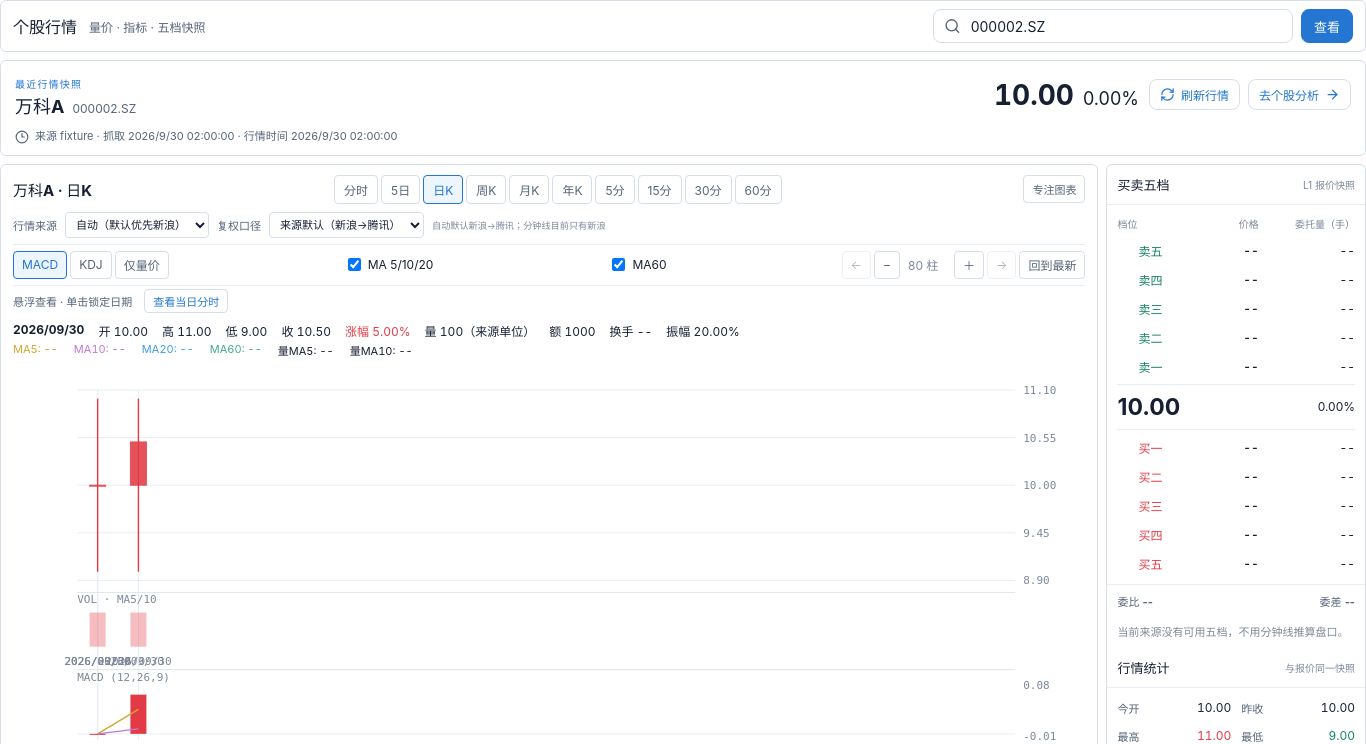
Test case: stock detail refresh preserves the rendered chart › does not offer retired EastMoney prices and states explicit Tencent default correctly
Select "腾讯 · 明确来源口径" in the dropdown named "K线来源". click: [137, 224]
box: [65,212,209,238]
(page scrolled)
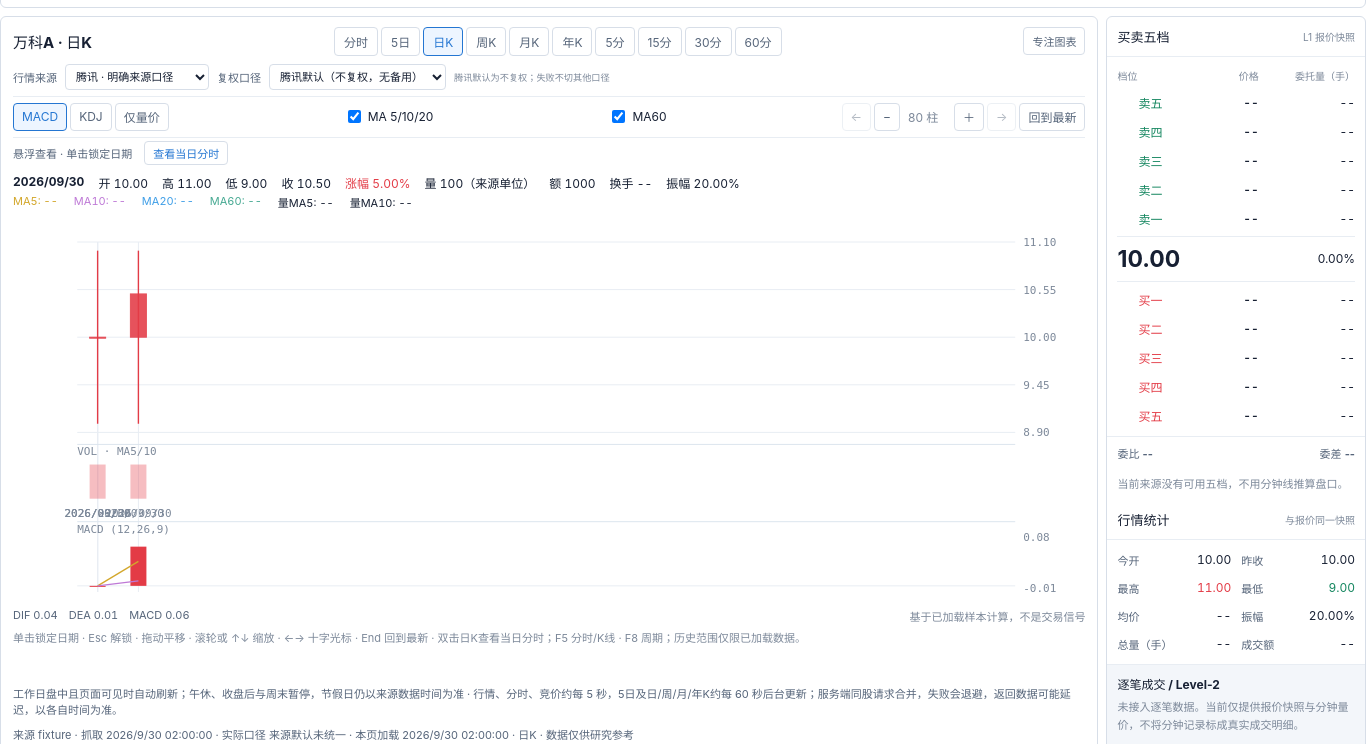
Check: the element with class "stock-detail-chart-panel" shows "失败不切其他口径", box [454,72,610,82]
